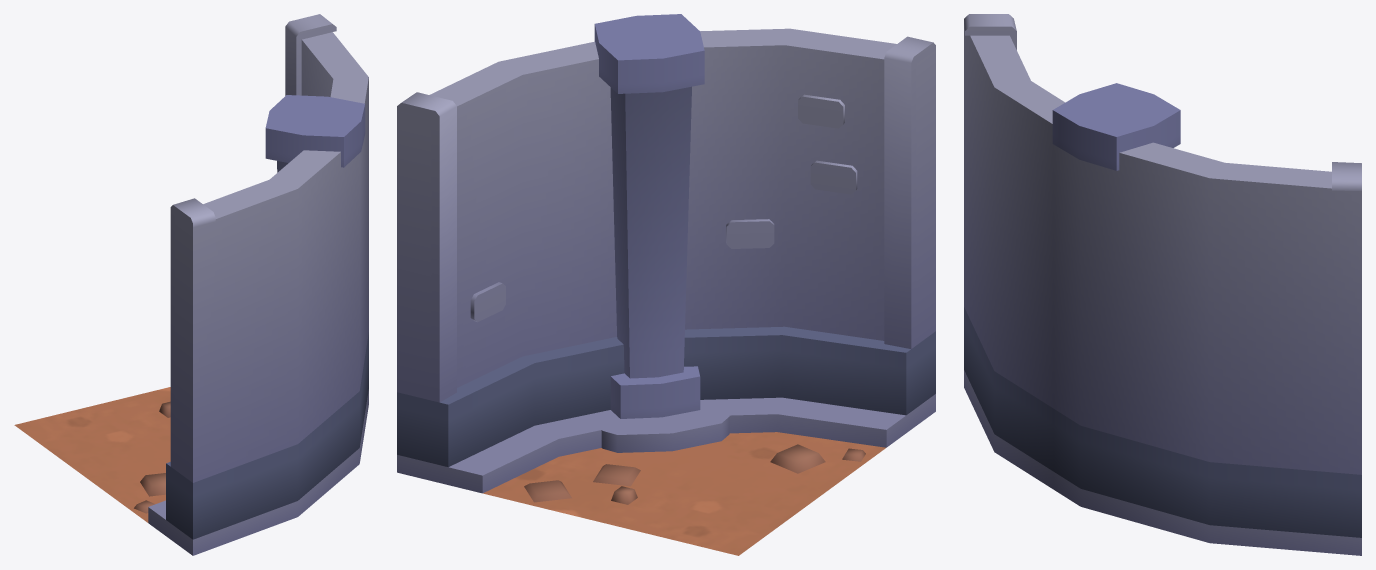
Rendered from template-corner.glb.
3 renders of one model, left to right at view 1: azimuth 30°, elevation 25°; view 2: azimuth 150°, elevation 25°; view 3: azimuth 270°, elevation 25°, orthographic. The views are drawn at different scales.
Visible parts, largest first — view 1: template-corner; view 2: template-corner; view 3: template-corner.
Boxes of the visible parts, left/top/right/bottom form: template-corner: left=14, top=14, right=368, bottom=555; template-corner: left=397, top=14, right=935, bottom=555; template-corner: left=964, top=14, right=1361, bottom=555.
Bounding box in the file's own units: 4 × 4.23 × 4.
1 material, 1 textured.
